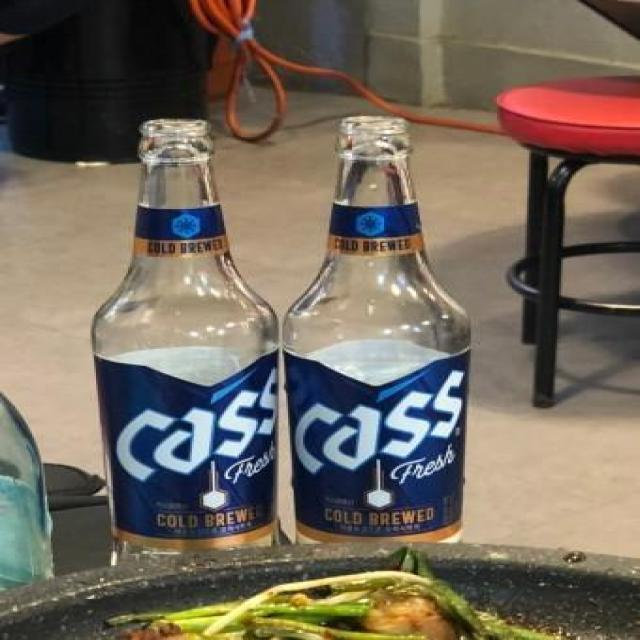beer-bottle: (87, 115, 283, 565), (280, 113, 476, 551)
